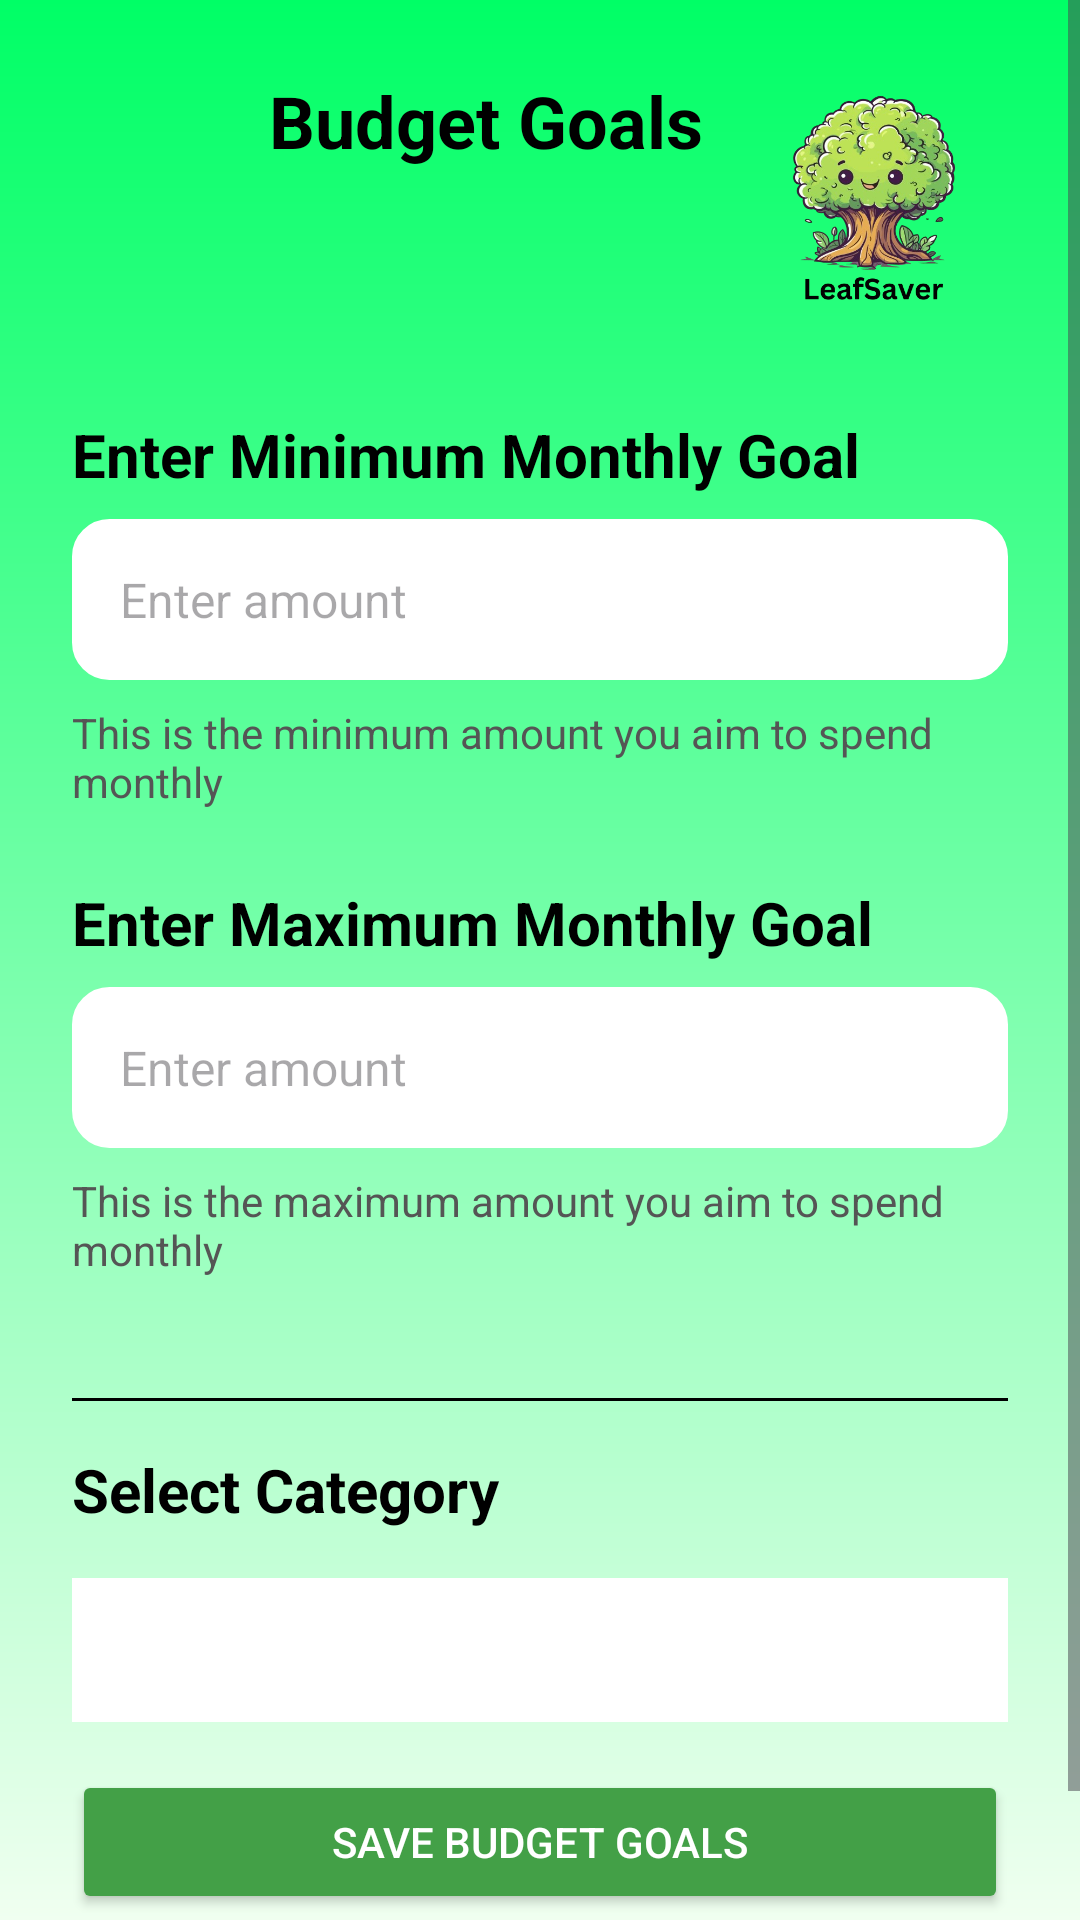

Named icons in this screenshot (1080x1920) and their centers, (x,y):
Tree Icon: (873,219)
